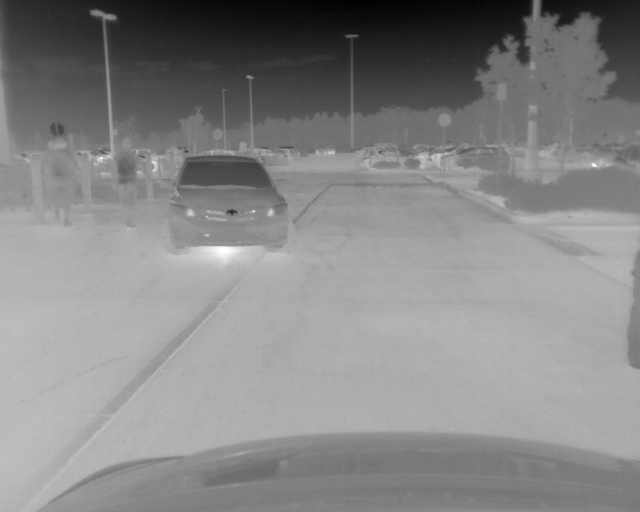car: (168, 156, 289, 252), (362, 147, 430, 169), (440, 147, 503, 168), (315, 145, 335, 155)
people: (45, 138, 80, 229), (113, 140, 142, 231), (624, 245, 640, 361), (234, 141, 253, 158)
